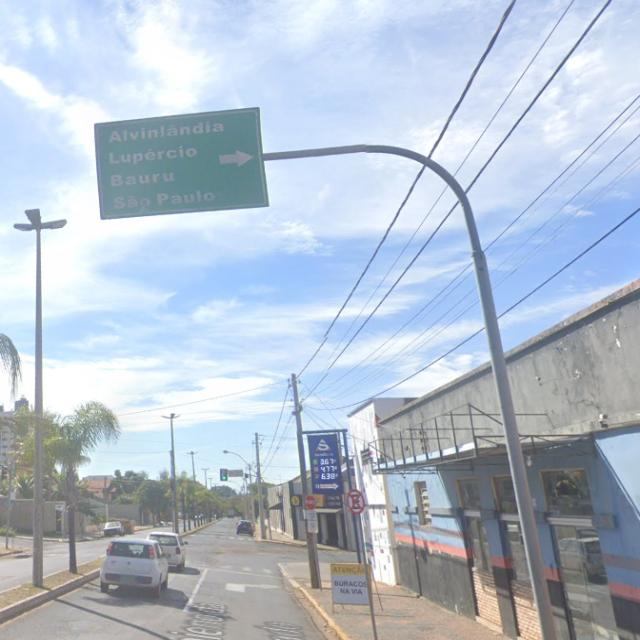indication: (79, 91, 287, 229)
